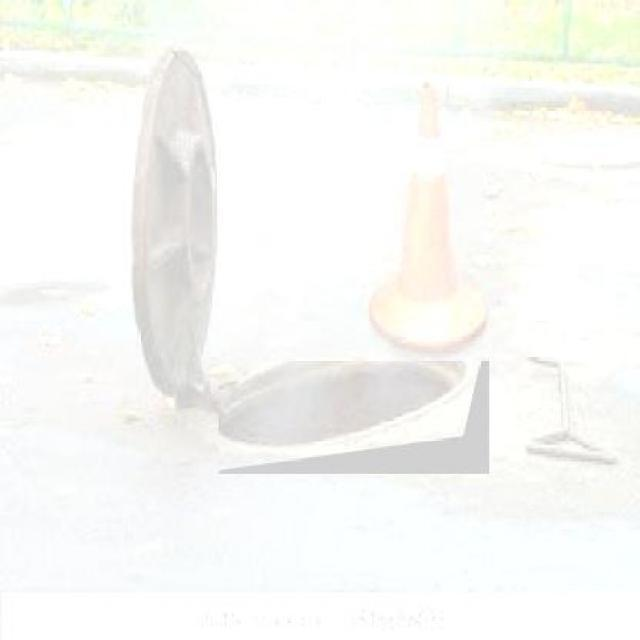Open Manhole: (143, 344, 490, 474)
